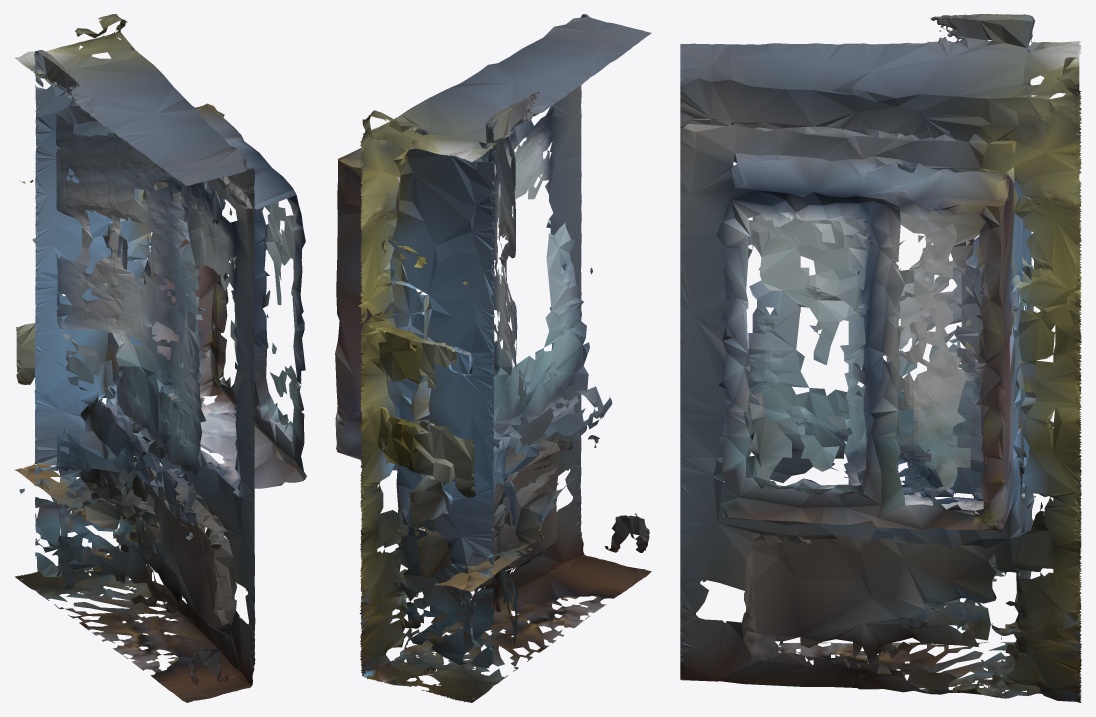
The model's file is coarse.glb.
The picture shows the model from 3 angles, left to right: view 1: azimuth 30°, elevation 25°; view 2: azimuth 150°, elevation 25°; view 3: azimuth 270°, elevation 25°; orthographic projection. The views are drawn at different scales.
Bounding box in the file's own units: 0.9324 × 2.84 × 1.63.
